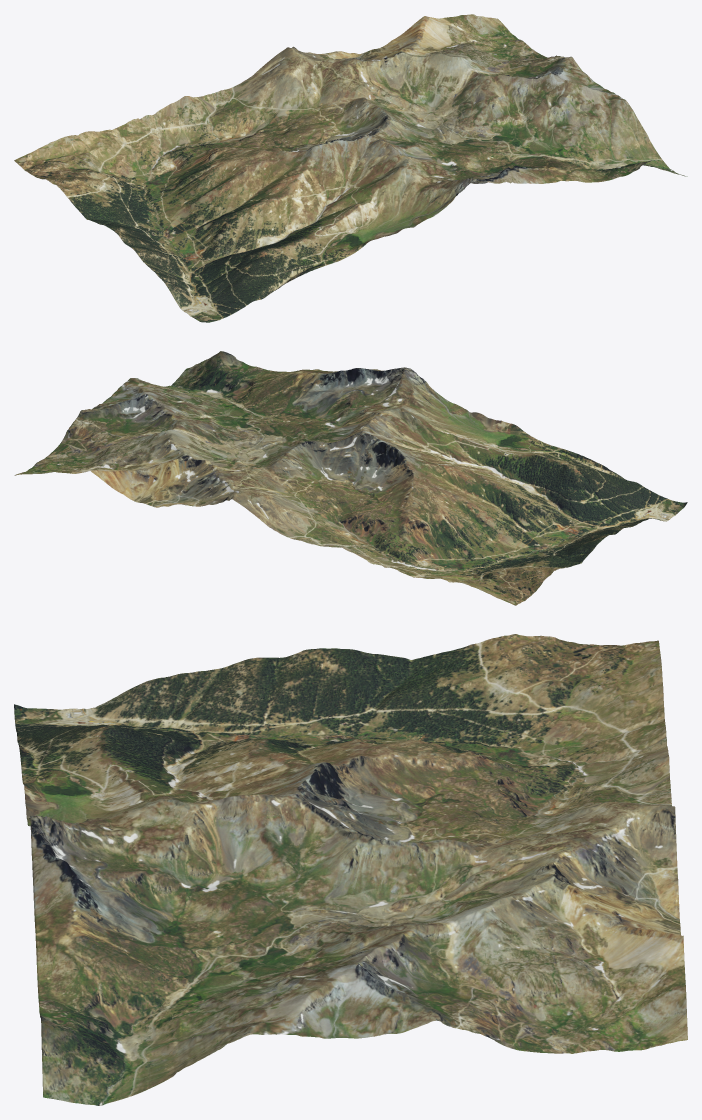
File: new_terrain.glb
The picture shows the model from 3 angles, top to bottom: view 1: azimuth 30°, elevation 25°; view 2: azimuth 150°, elevation 25°; view 3: azimuth 270°, elevation 25°; orthographic projection. The views are drawn at different scales.
Visible parts, largest first — view 1: AerialMesh2; view 2: AerialMesh2; view 3: AerialMesh2.
Part boxes in pixels (left/top/right/bottom): AerialMesh2: left=14, top=14, right=687, bottom=322; AerialMesh2: left=14, top=351, right=687, bottom=605; AerialMesh2: left=14, top=634, right=687, bottom=1105.
Bounding box in the file's own units: 63.93 × 9.58 × 41.82.
Materials: 1 (1 with a texture image).
